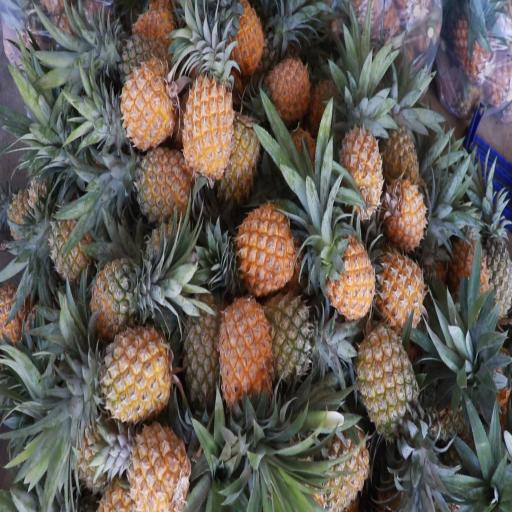------------------------------: (353, 314, 423, 448), (176, 262, 236, 390), (88, 252, 151, 342)
Pineapple - v8 v1: (88, 315, 176, 418), (214, 271, 272, 412), (121, 398, 190, 510), (180, 59, 237, 186), (123, 136, 196, 230), (228, 181, 295, 278), (334, 100, 384, 223), (322, 222, 378, 328), (121, 49, 175, 154), (311, 416, 370, 512), (376, 248, 427, 340), (261, 48, 314, 130), (382, 171, 432, 255)
